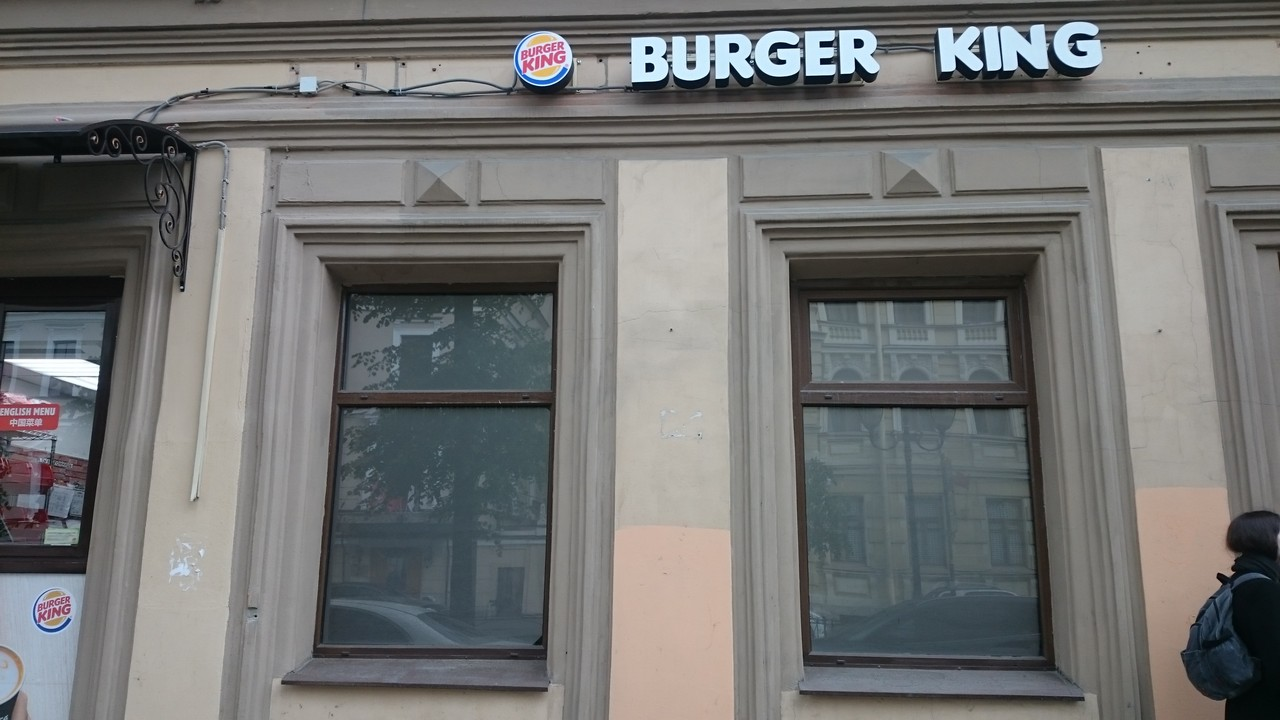signboard: (511, 21, 1105, 100)
window: (792, 279, 1048, 671), (325, 281, 552, 660)
